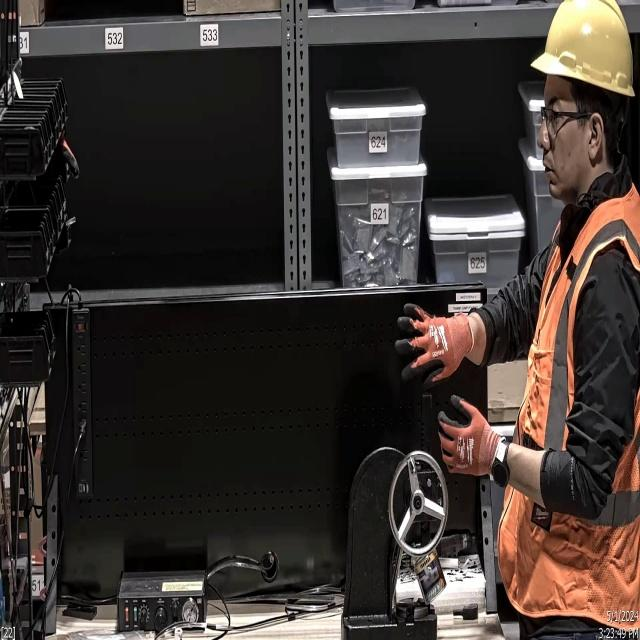construction-gloves: (392, 302, 477, 388), (434, 388, 499, 482)
